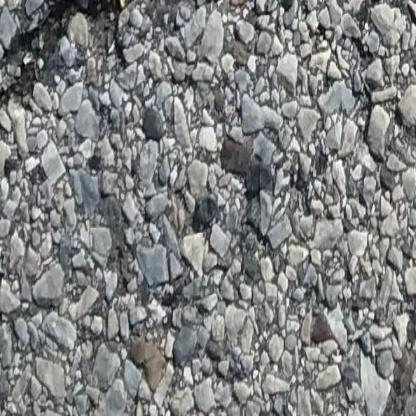Cracks: (0, 0, 193, 125)
